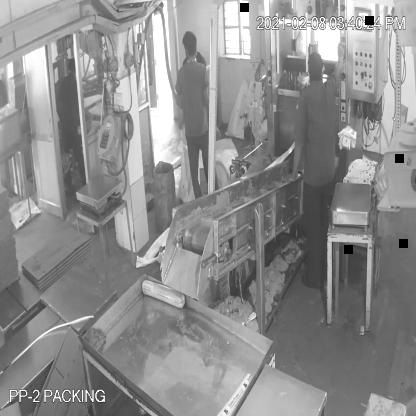no_glove: (280, 121, 309, 190), (332, 41, 352, 86)
